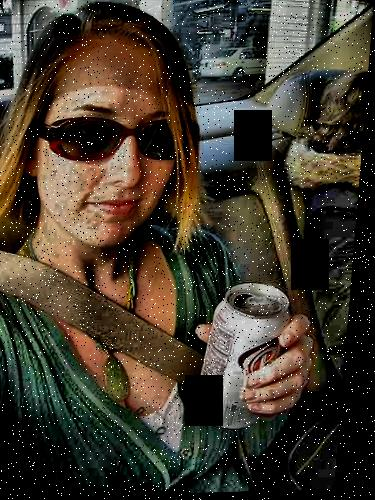seatbelt: (0, 240, 240, 407)
